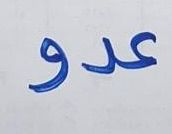ain: (124, 28, 158, 71)
dal: (80, 34, 123, 76)
waw: (26, 34, 70, 99)
